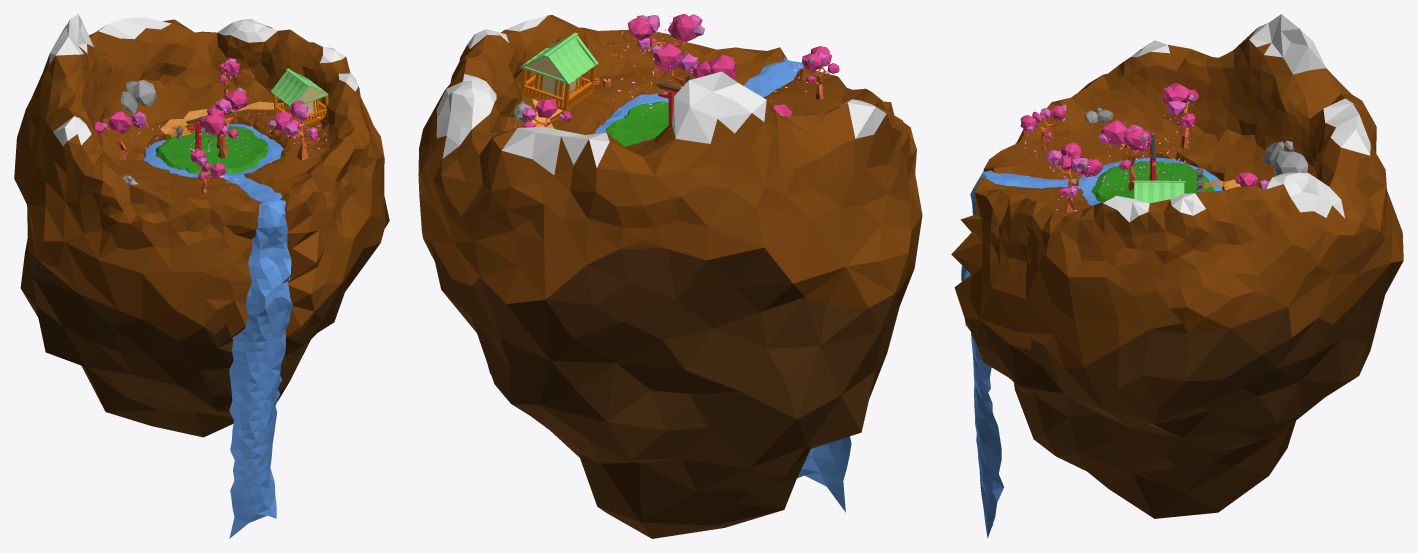
The model's file is floating_island.glb.
3 renders of one model, left to right at view 1: azimuth 30°, elevation 25°; view 2: azimuth 150°, elevation 25°; view 3: azimuth 270°, elevation 25°, orthographic. The views are drawn at different scales.
Parts seen in each view (by area): view 1: Isla, Agua, Hojas, Casa, Hojas.001, Roca, Cube.001_maderaCasa_0; view 2: Isla, Agua, Hojas, Casa, Hojas.001, Cube.001_maderaCasa_0; view 3: Isla, Agua, Hojas, Hojas.001, Roca, Casa.
Part boxes in pixels (x1=…): Isla: x1=14, y1=14, x2=389, y2=437; Agua: x1=144, y1=124, x2=293, y2=538; Hojas: x1=93, y1=58, x2=318, y2=179; Casa: x1=271, y1=68, x2=328, y2=105; Hojas.001: x1=199, y1=87, x2=247, y2=138; Roca: x1=120, y1=80, x2=157, y2=113; Cube.001_maderaCasa_0: x1=273, y1=93, x2=328, y2=126; Isla: x1=418, y1=15, x2=922, y2=538; Agua: x1=594, y1=57, x2=851, y2=512; Hojas: x1=522, y1=14, x2=839, y2=127; Casa: x1=520, y1=32, x2=598, y2=84; Hojas.001: x1=651, y1=43, x2=735, y2=86; Cube.001_maderaCasa_0: x1=520, y1=65, x2=595, y2=111; Isla: x1=951, y1=14, x2=1403, y2=518; Agua: x1=961, y1=157, x2=1222, y2=537; Hojas: x1=1020, y1=82, x2=1268, y2=196; Hojas.001: x1=1098, y1=120, x2=1151, y2=170; Roca: x1=1263, y1=140, x2=1307, y2=175; Casa: x1=1132, y1=180, x2=1185, y2=203.
Size of the model in its own units: 1147 by 1408 by 1169.
